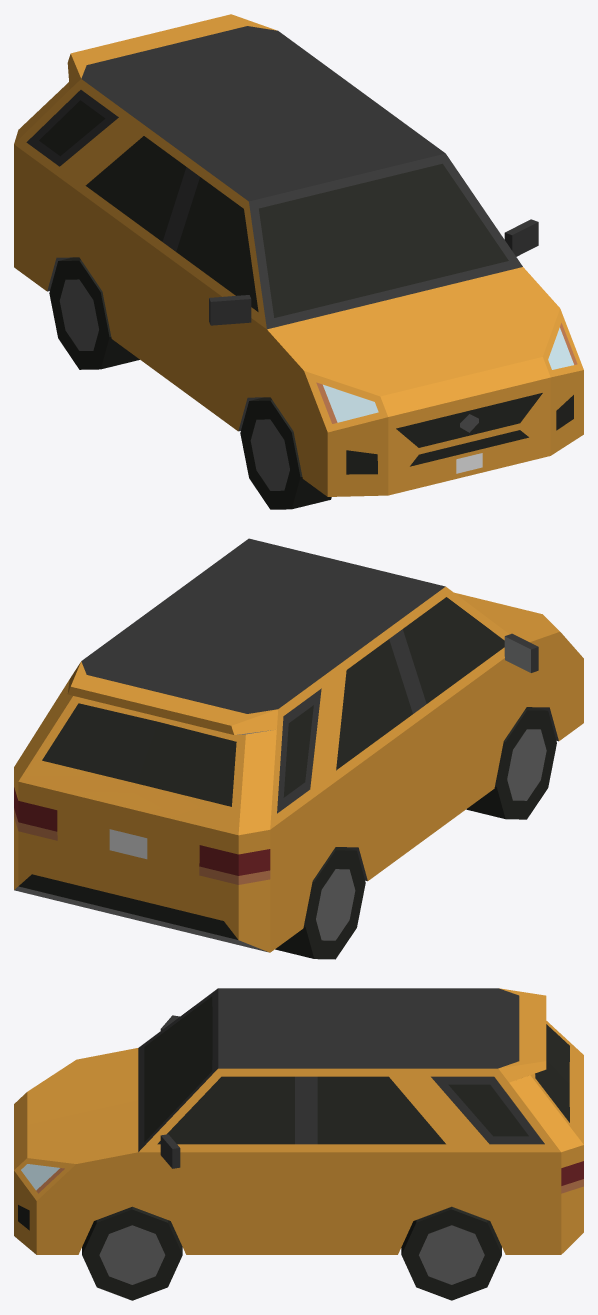
Rendered from Veh_SUV_01_Yellow.glb.
3 views of the same model, one above another, from view 1: azimuth 30°, elevation 25°; view 2: azimuth 150°, elevation 25°; view 3: azimuth 270°, elevation 25° (orthographic). The views are drawn at different scales.
Visible parts, largest first — view 1: SUV_01_Yellow, Wheel_FR, Wheel_RR; view 2: SUV_01_Yellow, Wheel_FR, Wheel_RR; view 3: SUV_01_Yellow, Wheel_FL, Wheel_RL.
Boxes of the visible parts, bbox=[...] form: SUV_01_Yellow: bbox=[14, 14, 583, 496]; Wheel_FR: bbox=[240, 397, 331, 509]; Wheel_RR: bbox=[49, 257, 139, 369]; SUV_01_Yellow: bbox=[14, 538, 583, 952]; Wheel_FR: bbox=[466, 707, 556, 819]; Wheel_RR: bbox=[275, 847, 365, 959]; SUV_01_Yellow: bbox=[14, 988, 583, 1254]; Wheel_FL: bbox=[82, 1206, 182, 1300]; Wheel_RL: bbox=[401, 1206, 501, 1300].
Bounding box in the file's own units: 1.33 × 1.02 × 2.4.
1 material, 1 textured.
